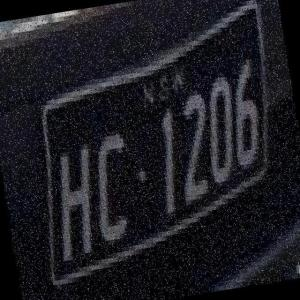Plate: (0, 0, 300, 297)
